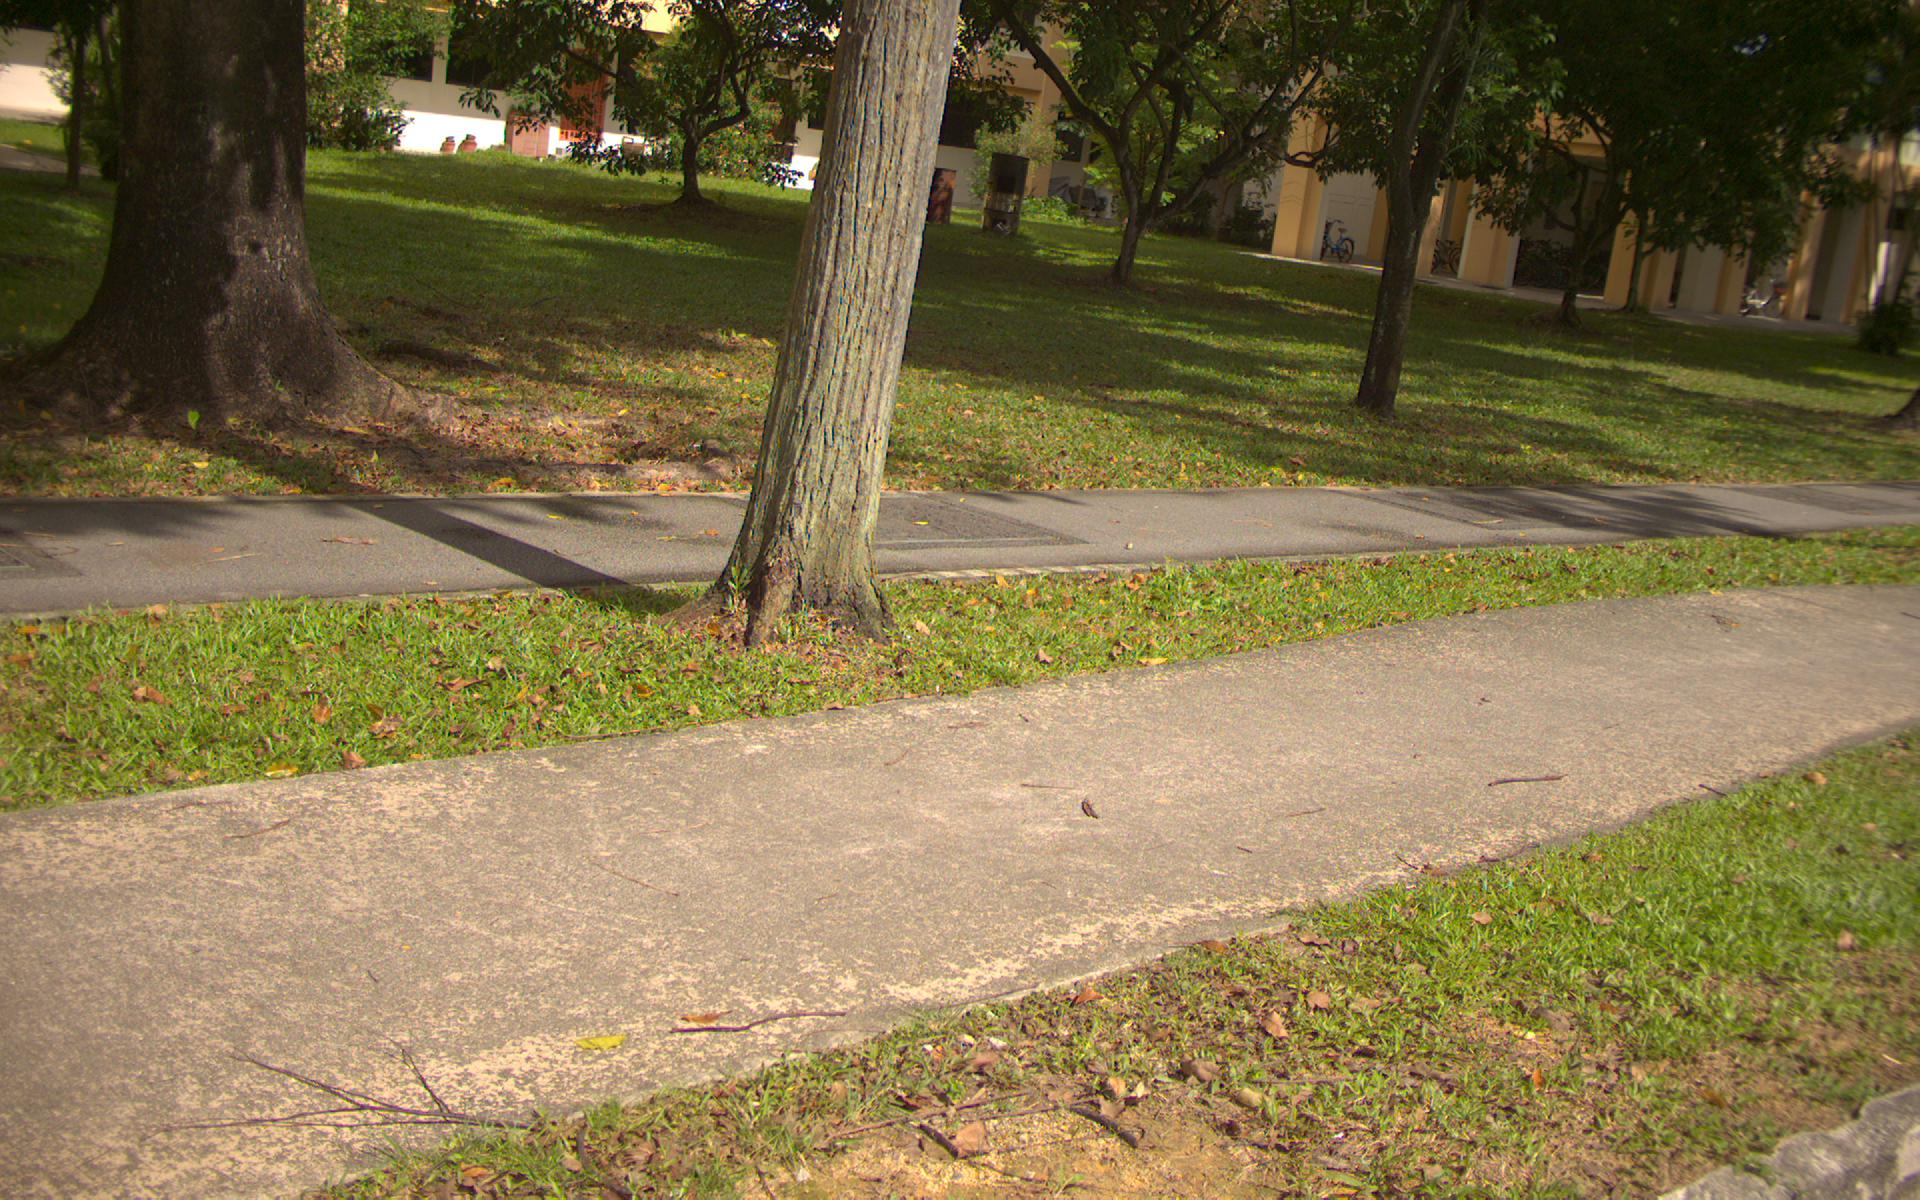pathway_low: (12, 810, 509, 1141), (1056, 482, 1619, 552)
road_turf_low: (426, 162, 1008, 492), (1702, 742, 1901, 1159), (4, 624, 317, 769)
